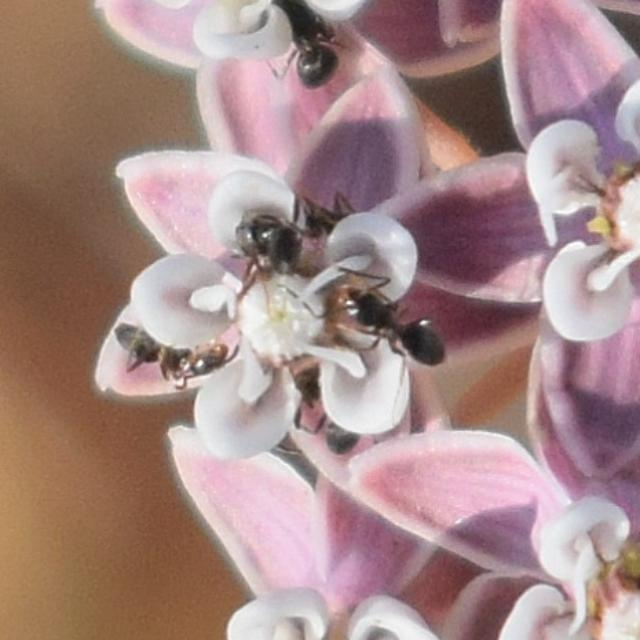Tapinoma: (324, 265, 462, 379), (96, 312, 244, 408), (238, 0, 354, 94), (220, 195, 302, 272)
